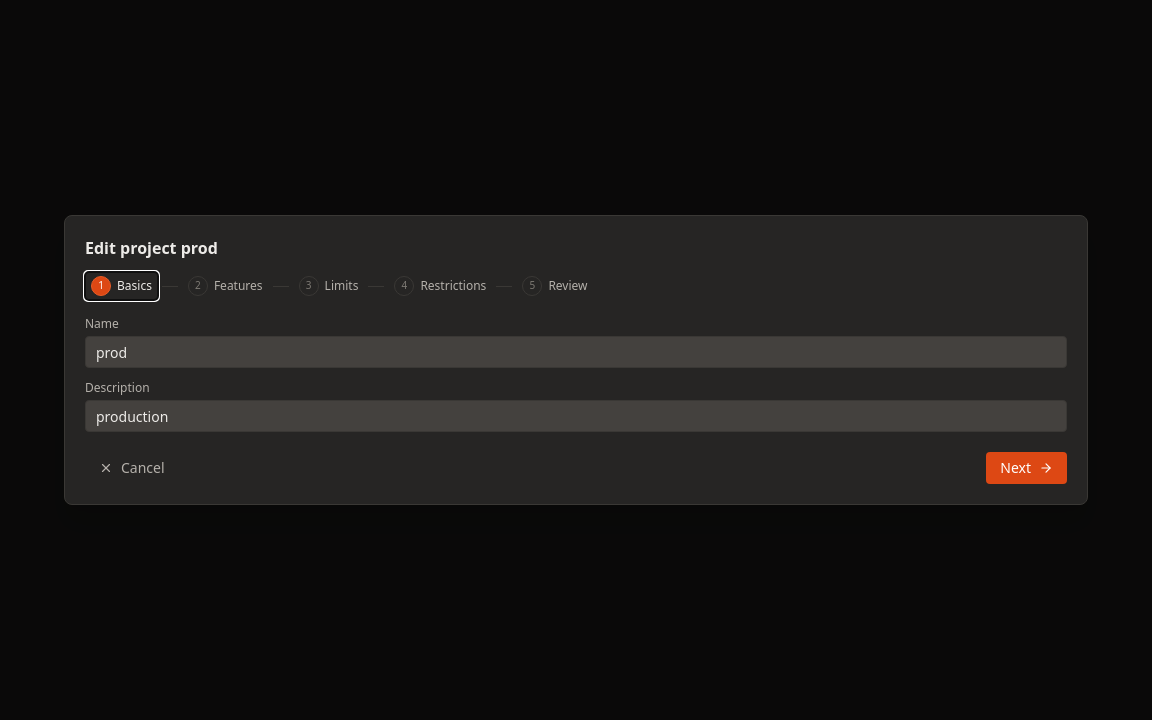
Scenario: ProjectEditor (edit) › keeps the disk limit input but drops its usage bar
The image size is (1152, 720).
Click the button "3 Limits" at (328, 286), box x1=293 y1=272 x2=364 y2=300
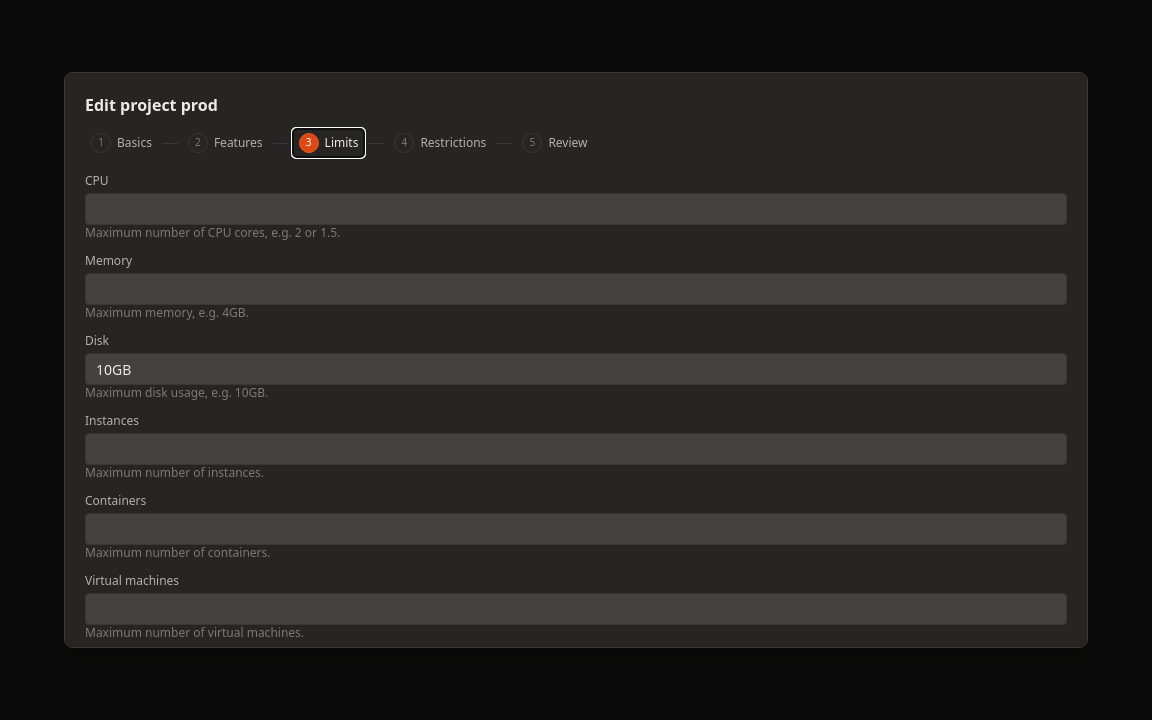
Result: the field with test id "project-limit-disk" holds "10GB" at x1=85 y1=353 x2=1067 y2=385
